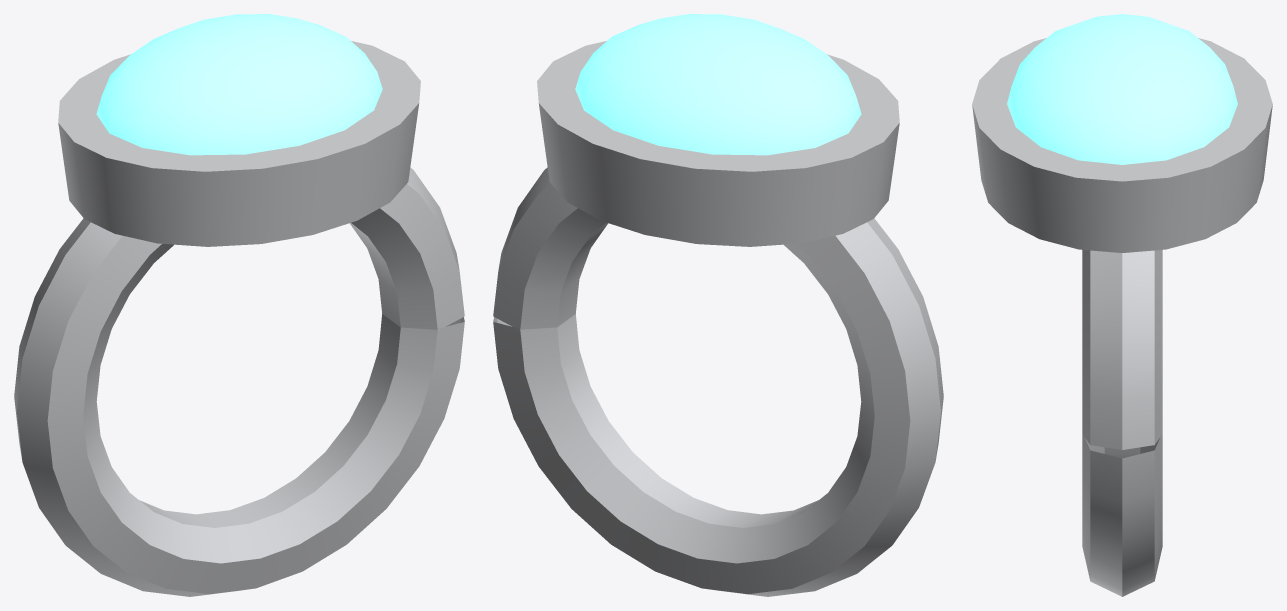
File: tidecaller_moonstone.glb
3 views of the same model, side by side, from view 1: azimuth 30°, elevation 25°; view 2: azimuth 150°, elevation 25°; view 3: azimuth 270°, elevation 25° (orthographic). The views are drawn at different scales.
Parts seen in each view (by area): view 1: tidecaller_moonstone; view 2: tidecaller_moonstone; view 3: tidecaller_moonstone.
Boxes of the visible parts, x1,y1,x2,y2 form: tidecaller_moonstone: (14, 14, 464, 596); tidecaller_moonstone: (493, 14, 943, 596); tidecaller_moonstone: (972, 14, 1272, 596).
Bounding box in the file's own units: 0.0264 × 0.0317 × 0.0161.
